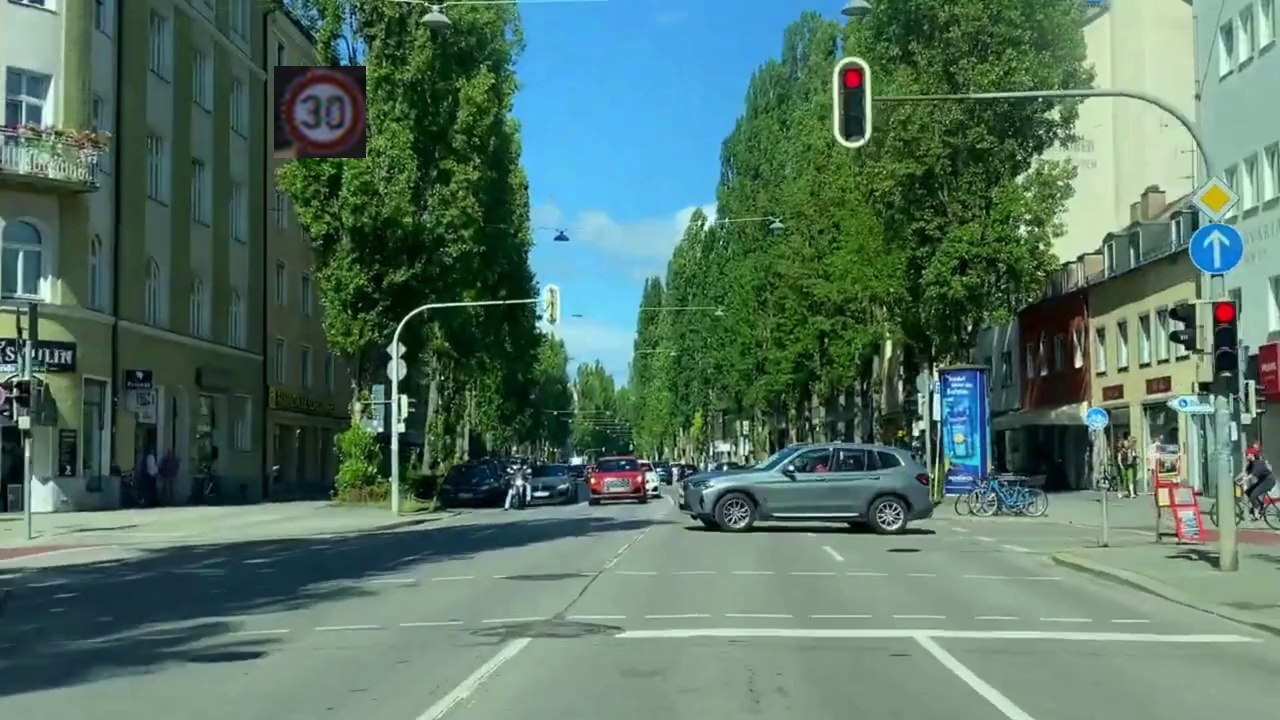Speed 30: (274, 66, 366, 158)
